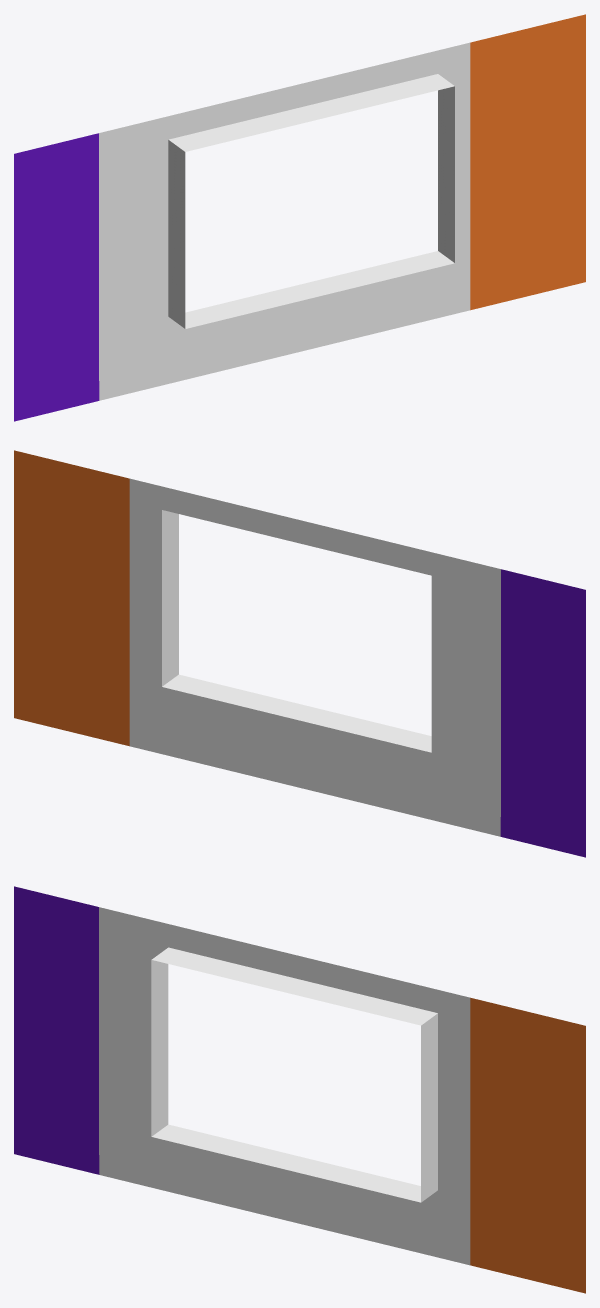
File: P_Lateral_Direita.glb
3 renders of one model, top to bottom at view 1: azimuth 30°, elevation 25°; view 2: azimuth 150°, elevation 25°; view 3: azimuth 330°, elevation 25°, orthographic.
Visible parts, largest first — view 1: Janela; view 2: Janela; view 3: Janela.
Part boxes in pixels (x1=…): Janela: x1=14, y1=14, x2=585, y2=421; Janela: x1=14, y1=450, x2=585, y2=857; Janela: x1=14, y1=886, x2=585, y2=1293.
Bounding box in the file's own units: 8.94 × 4 × 0.4585.
2 materials, 2 textured.
